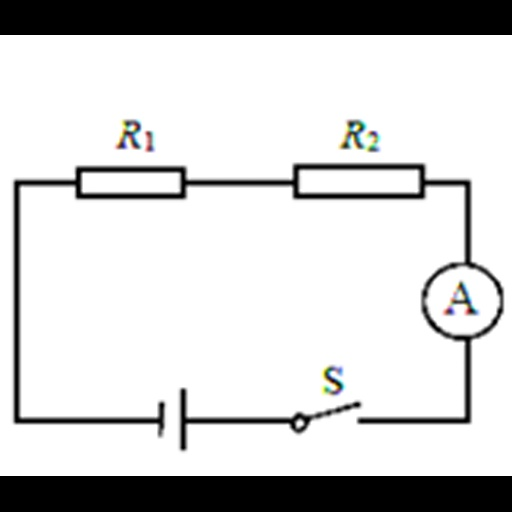firstresistance: (290, 157, 428, 208), (70, 159, 191, 206)
